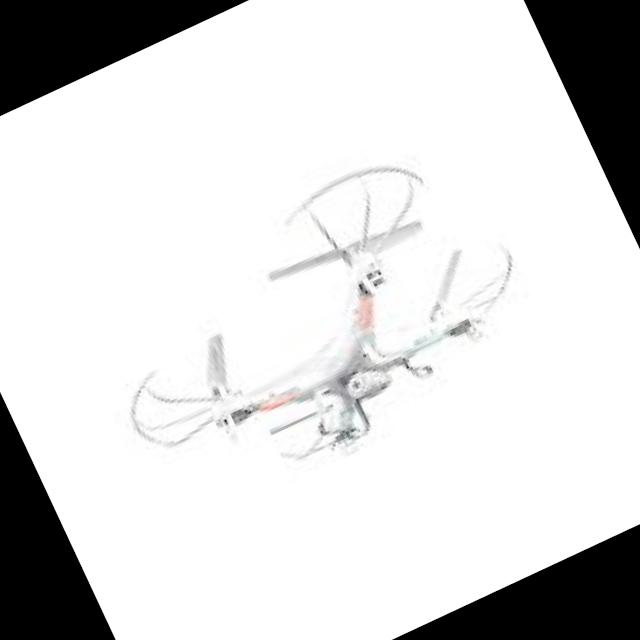drone: (56, 99, 591, 546)
